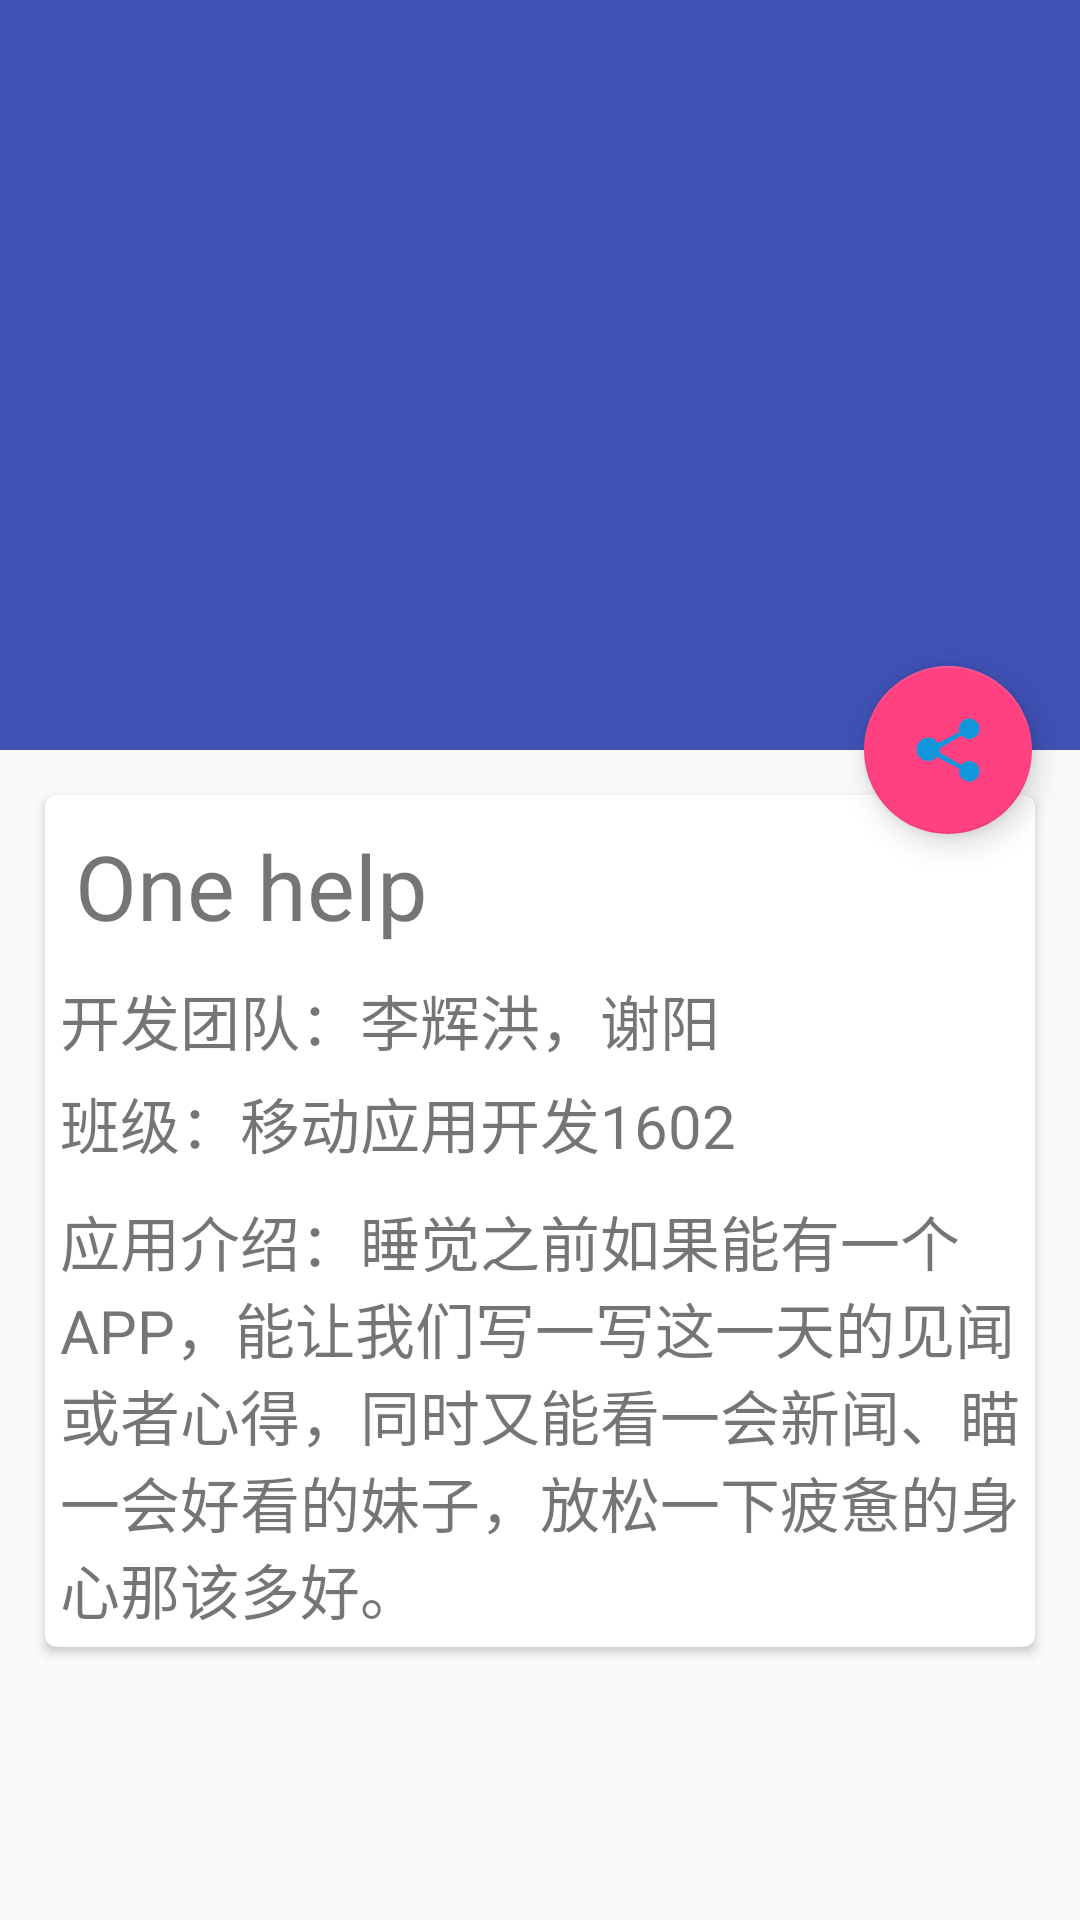

Icons on this 1080 × 1920 Android screen, each with the point to tap as point (x, y):
share: point (948, 750)
